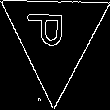P_E: (32, 18, 77, 57)
